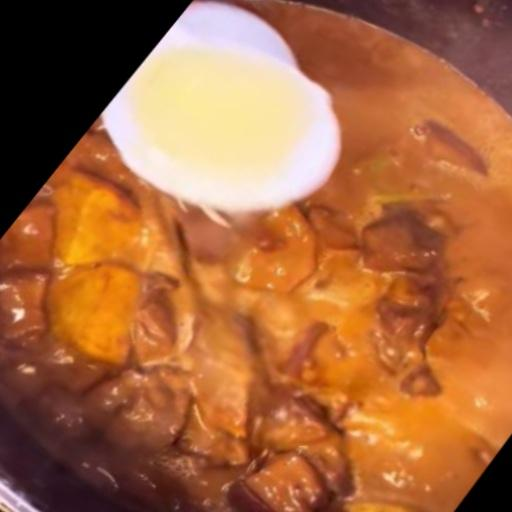pork caldereta: (0, 116, 511, 511)
